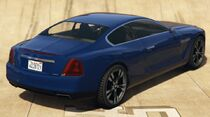car: (5, 13, 210, 108)
